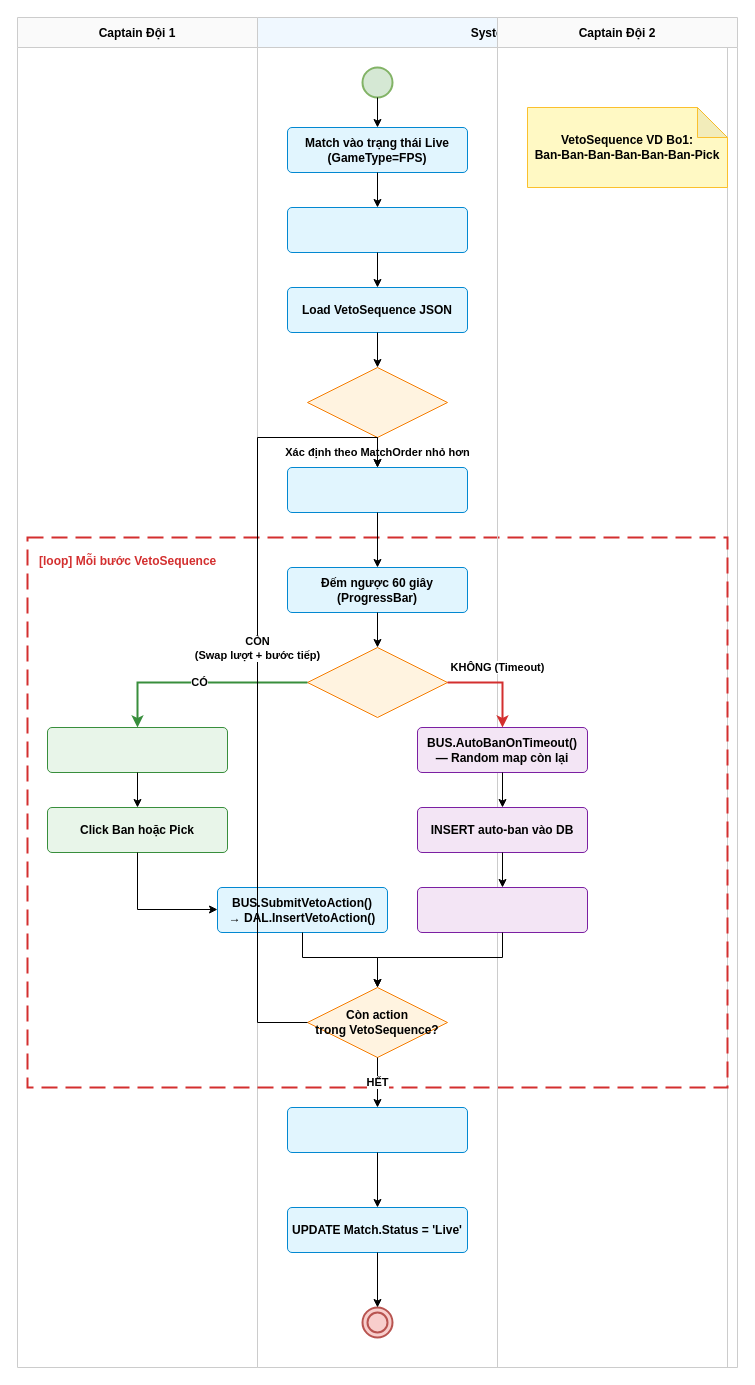
Image size: 755x1385. Some labels were removed from this diagram. The centre of each missing label's shape, as x and y in pixels:
Captain thao tác kịp?: [377,682]
Chọn Map từ danh sách: [137,749]
Hiển thị Lượt [Team X] — [Ban/Pick] — 60s: [377,489]
Load MapPool từ tblGameConfig: [377,229]
Thông báo "Hệ thống tự ban [mapName]": [502,909]
Tổng kết: Danh sách map thi đấu chính thức: [377,1129]
Đội nào đi trước?: [377,402]
